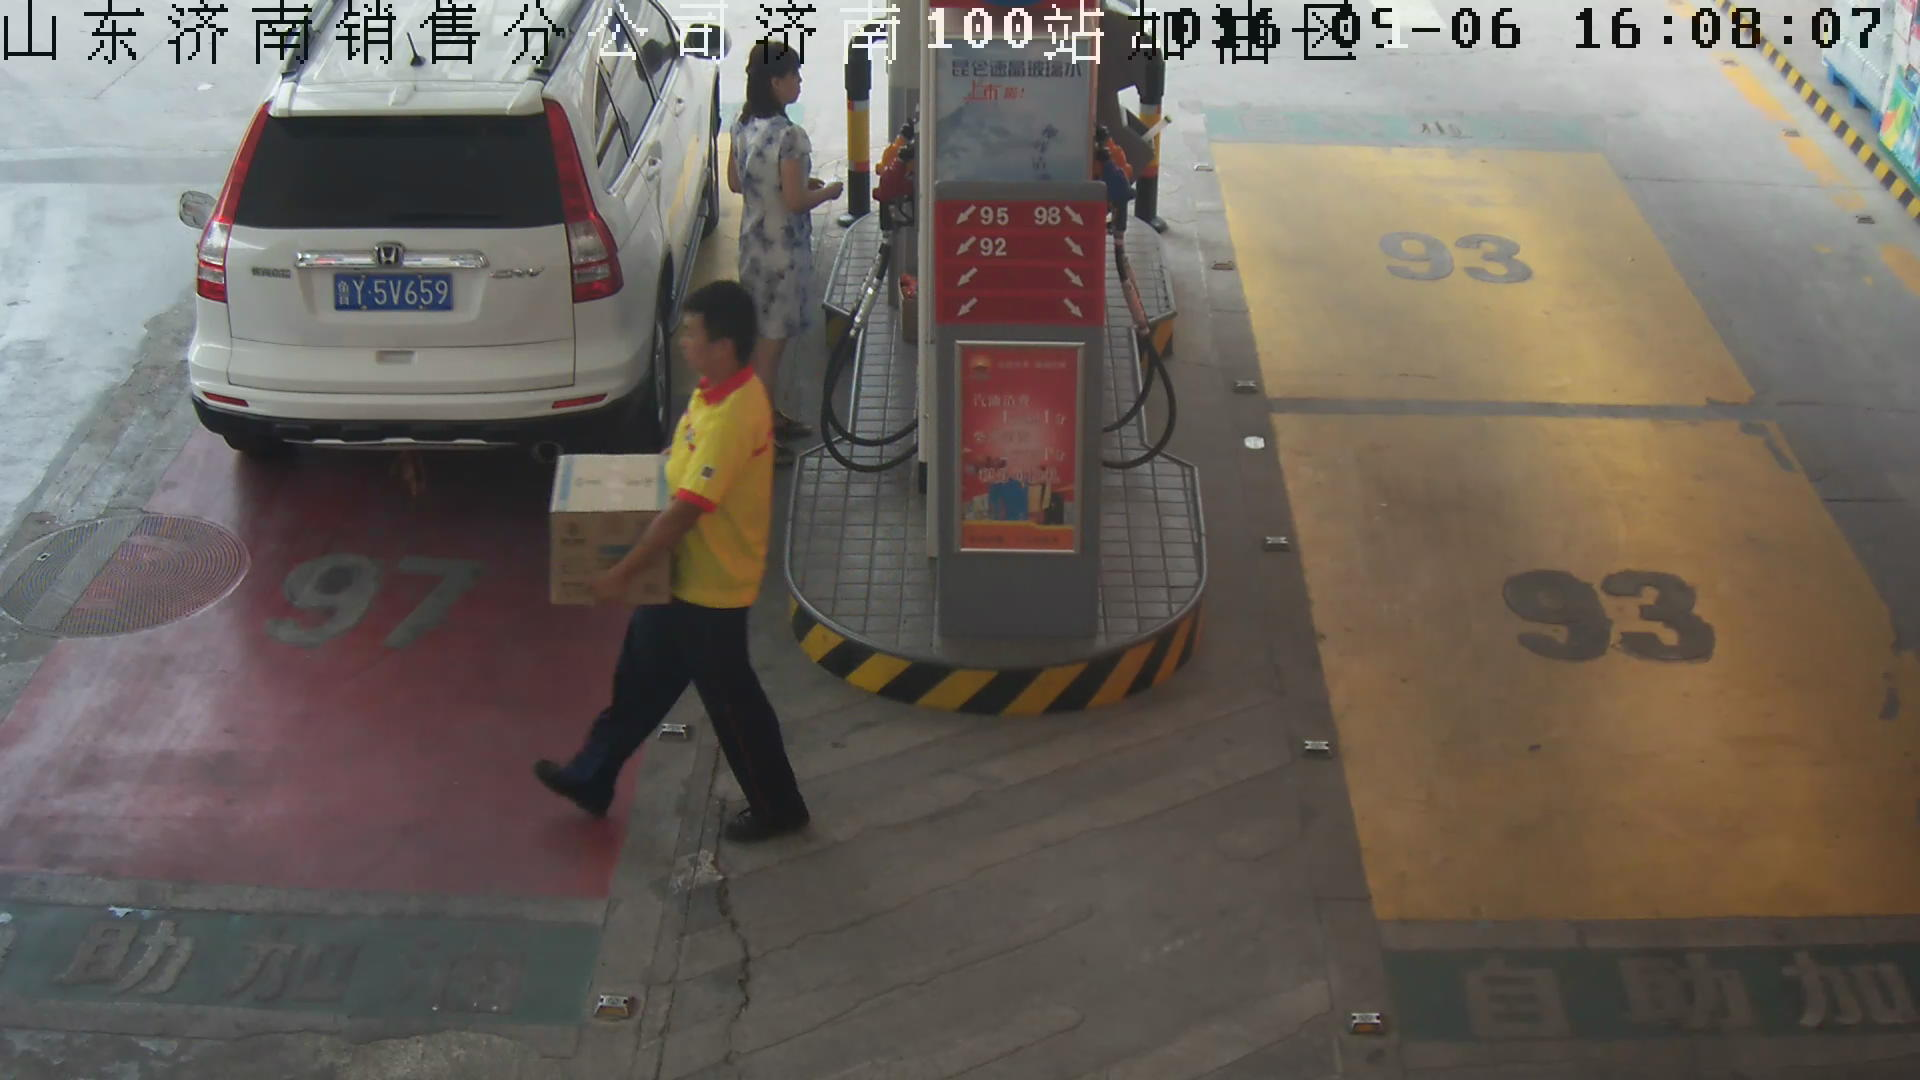blue: (334, 272, 456, 316)
